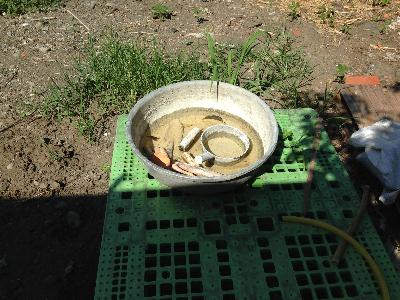bowl: (124, 79, 281, 196), (200, 124, 251, 166)
